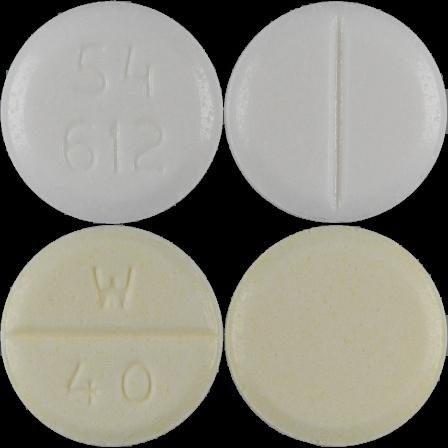0615-0536: (0, 0, 224, 224)
